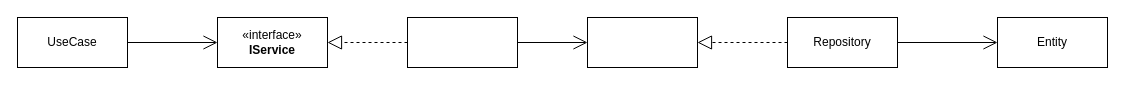
The diagram is 1125 pixels wide and 85 high, and some of its shapes have lost their labels. Each missing label, with the box of its shape:
Service: (406, 16, 518, 68)
«interface» IRepository: (586, 16, 698, 68)
